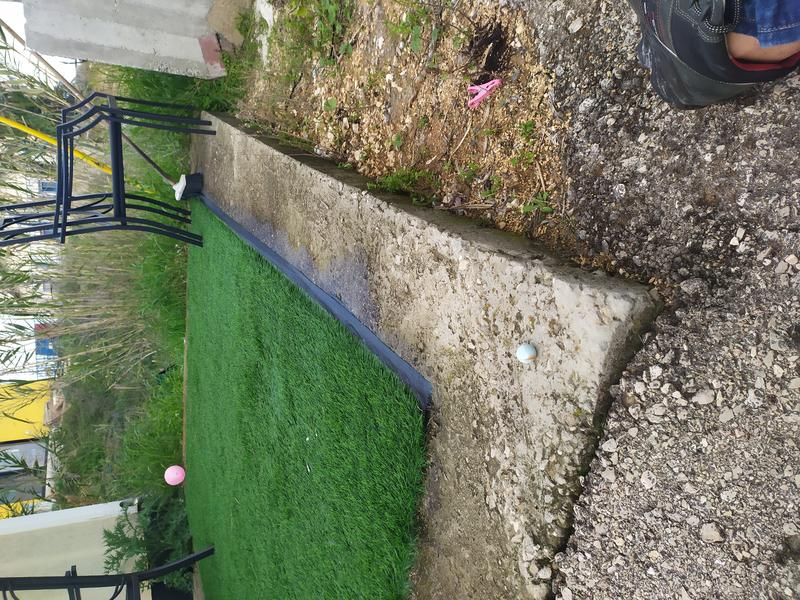Warning: (515, 342, 539, 365)
